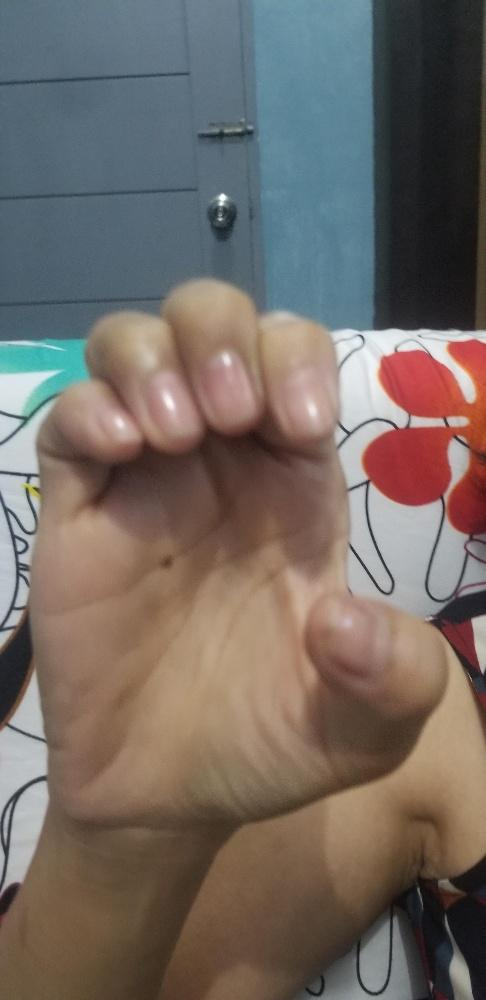e: (24, 273, 456, 836)
